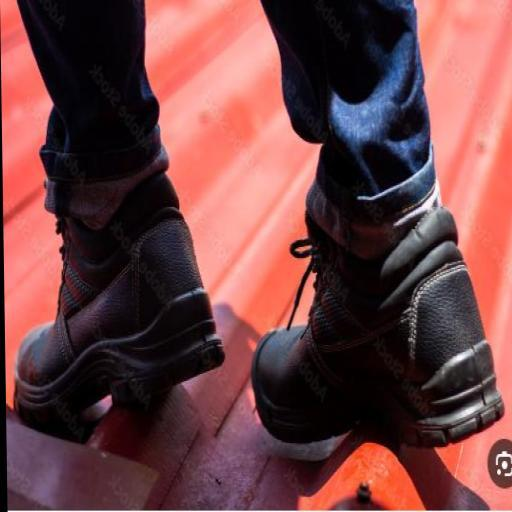safety_boots: (255, 179, 512, 469), (8, 148, 229, 415)
